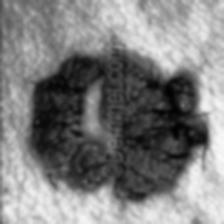Toxin: (126, 35, 214, 201), (30, 50, 102, 204)
